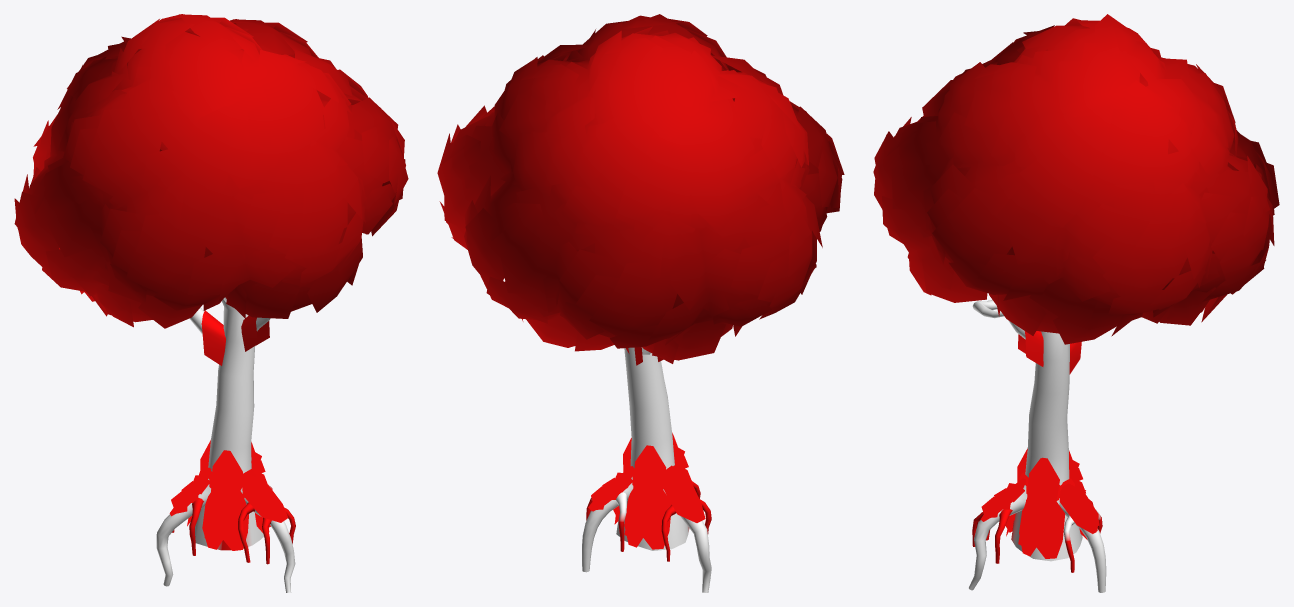
File: SM_tree_05.FBX
3 renders of one model, left to right at view 1: azimuth 30°, elevation 25°; view 2: azimuth 150°, elevation 25°; view 3: azimuth 270°, elevation 25°, orthographic. The views are drawn at different scales.
Parts seen in each view (by area): view 1: SM_tree_05_LOD0; view 2: SM_tree_05_LOD0; view 3: SM_tree_05_LOD0.
Boxes of the visible parts, left/top/right/bottom form: SM_tree_05_LOD0: left=14, top=14, right=408, bottom=592; SM_tree_05_LOD0: left=437, top=14, right=844, bottom=592; SM_tree_05_LOD0: left=873, top=14, right=1279, bottom=592.
Size of what is drawn, in the model's own units: 1109 by 1133 by 1699.
